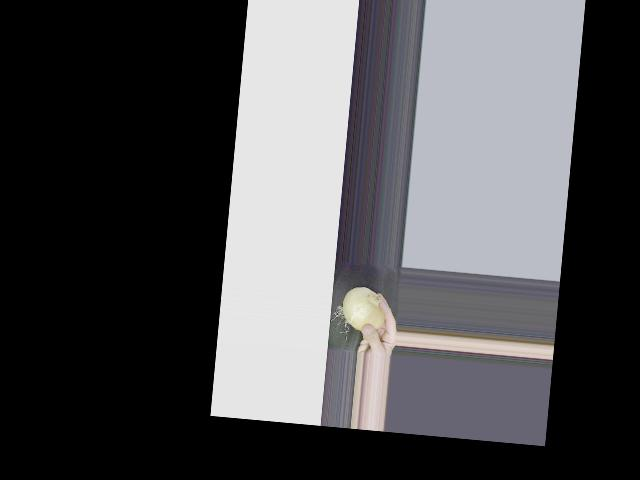onion: (339, 286, 388, 332)
